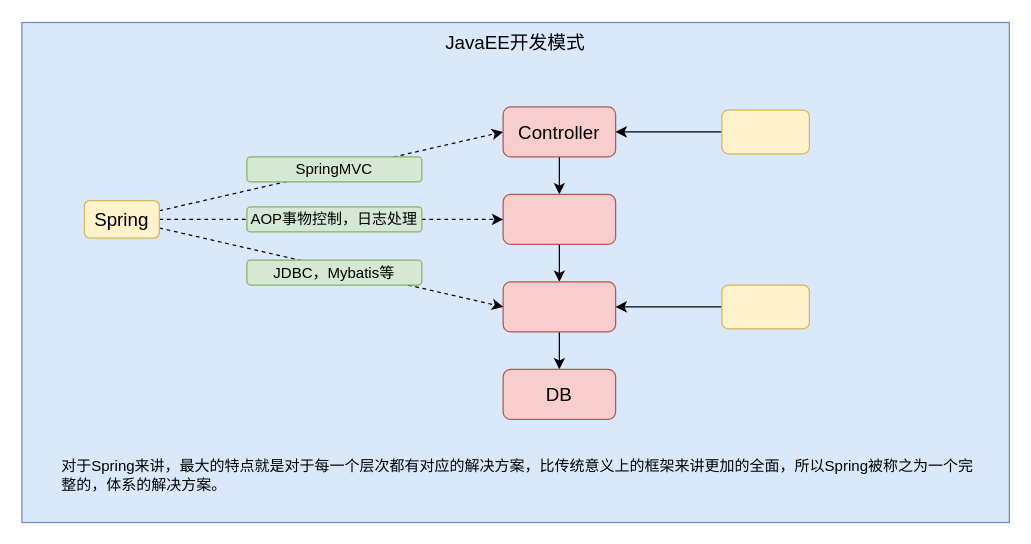
Some shapes in this 1031 by 544 pixel diagram are drawn without their labels. Here are the shapes that lost their labels. From the top down, the centre of each, then its label:
At [765,131]: "struts2".
At [559,218]: "Service".
At [559,306]: "DAO".
At [765,306]: "mybatis".
